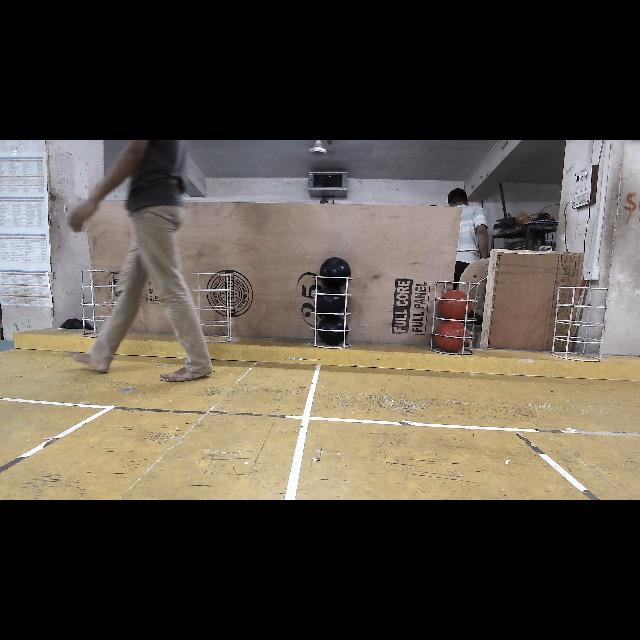P: (319, 258, 351, 288), (318, 316, 349, 346), (316, 286, 345, 318)
R: (435, 321, 469, 352), (439, 290, 472, 320)
S: (550, 286, 612, 360), (431, 277, 482, 357), (309, 271, 356, 351), (190, 272, 236, 342), (79, 270, 121, 338)
